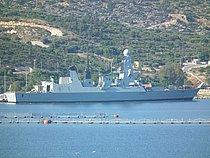MIL_Ship: (5, 65, 200, 103)
